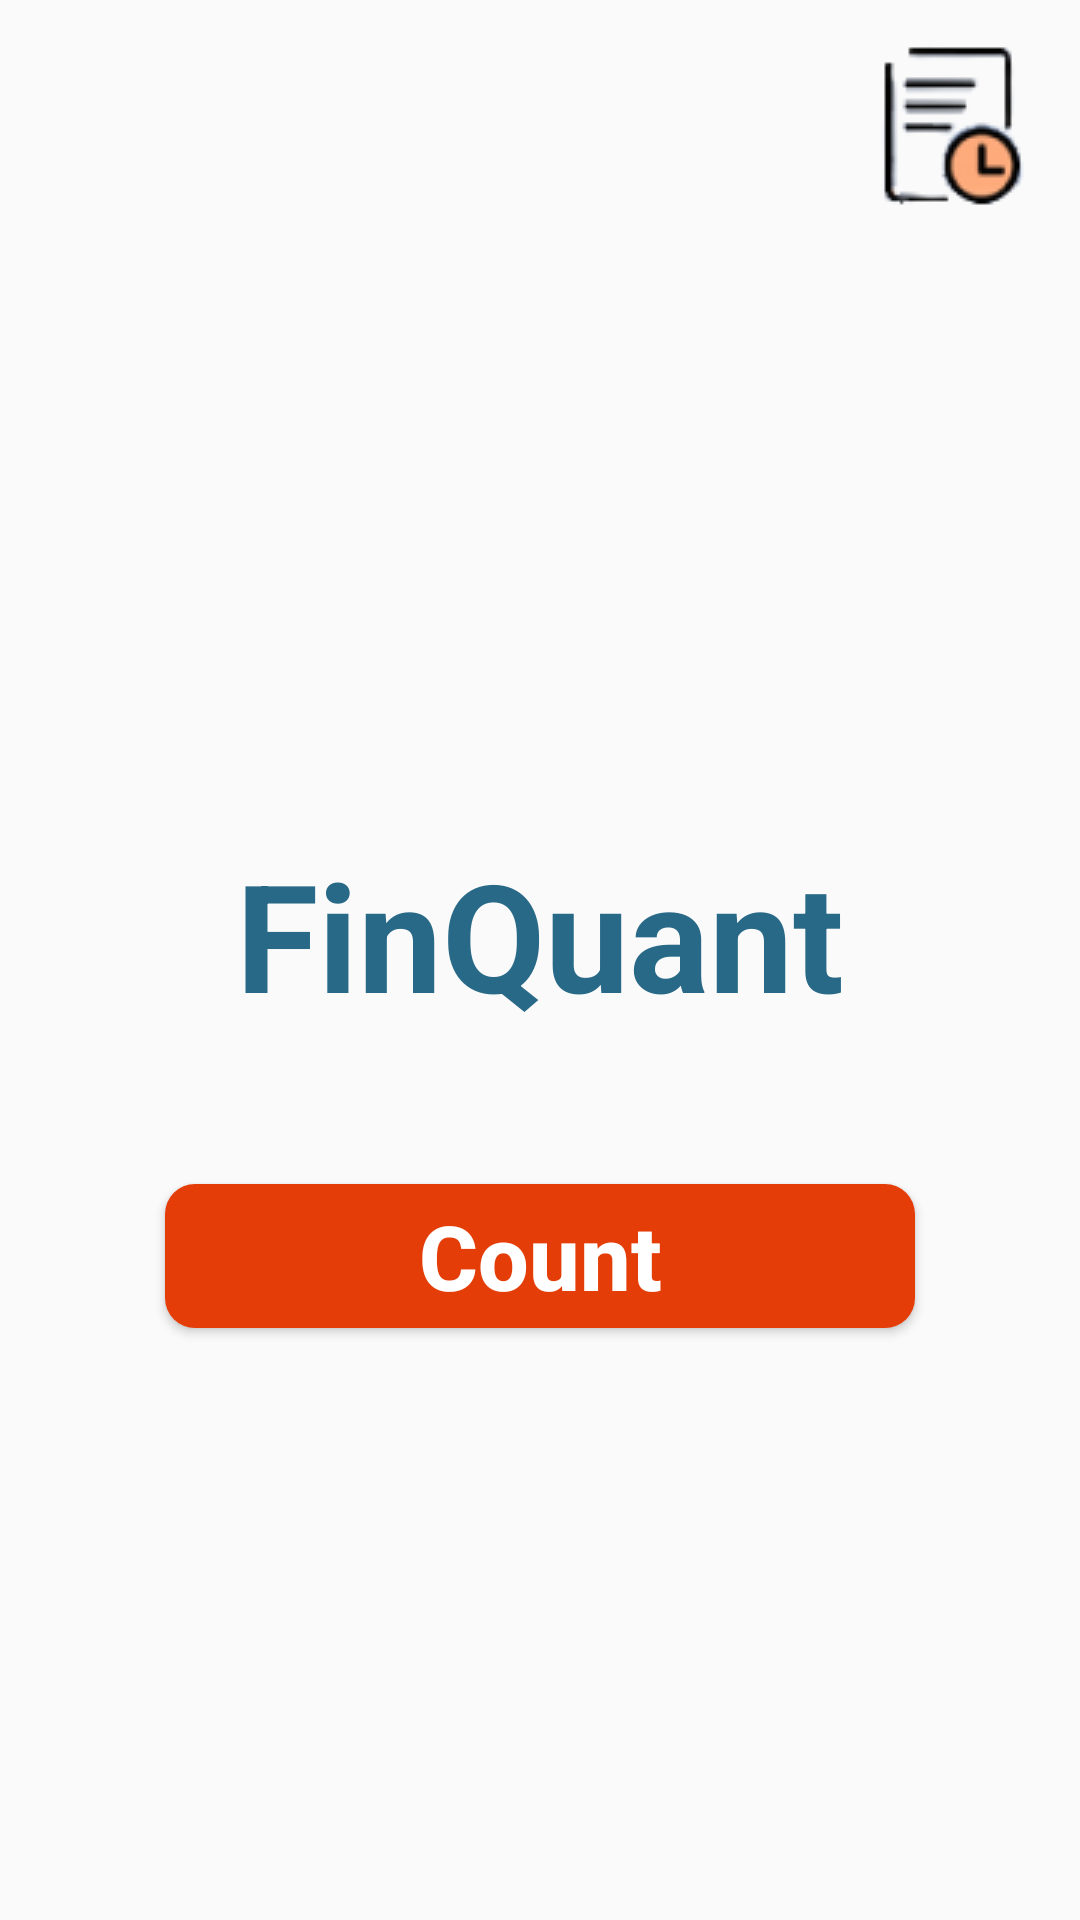

Icons on this 1080px×1920px Android screen, each with the point to tap as (x,y):
cheks: (953,126)
